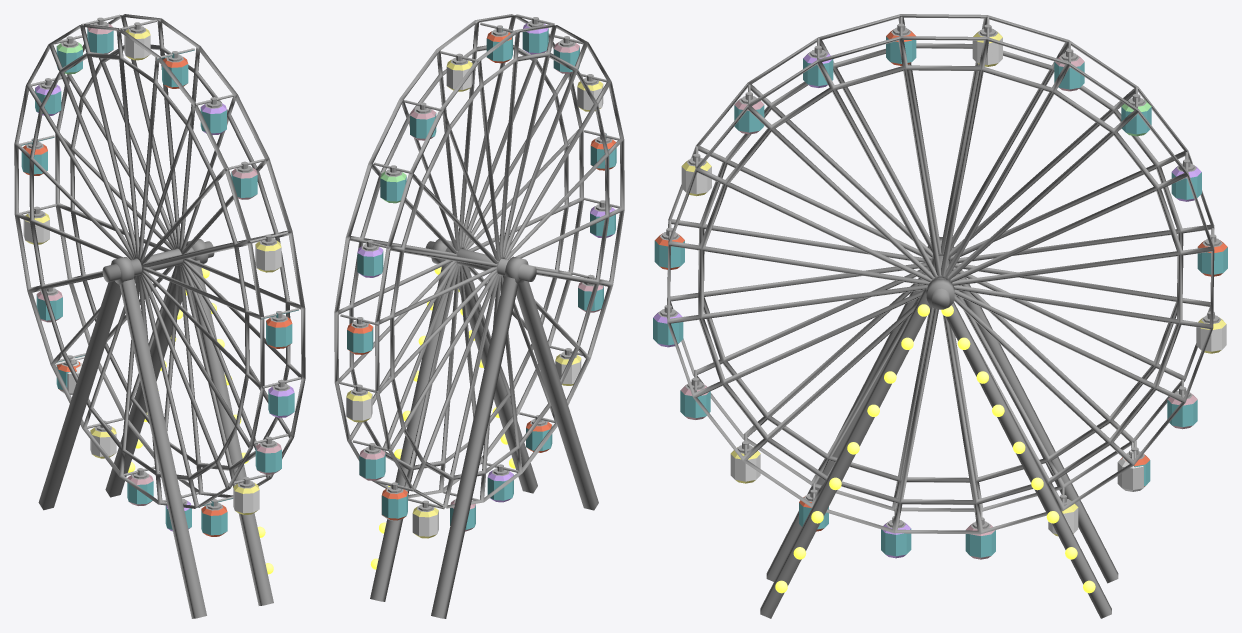
The model's file is rueda.glb.
3 renders of one model, left to right at view 1: azimuth 30°, elevation 25°; view 2: azimuth 150°, elevation 25°; view 3: azimuth 270°, elevation 25°, orthographic. The views are drawn at different scales.
Parts seen in each view (by area): view 1: Circle.001, Cube.003, Cube.002, Cube.001, Cube, Cylinder.019, Cylinder.005, Cylinder.020, Cylinder.001, Cylinder.004, Cylinder.003, Cylinder.021 (+11 smaller); view 2: Circle.001, Cube.002, Cube.003, Cube, Cube.001, Cylinder.011, Cylinder.010, Cylinder.012, Cylinder.013, Cylinder.007, Cylinder.008, Cylinder.014 (+12 smaller); view 3: Circle.001, Cube.001, Cube, Cube.002, Cube.003, Cylinder.012, Cylinder.006, Cylinder.020, Cylinder.010, Cylinder.019, Cylinder.004, Cylinder.013 (+10 smaller).
Boxes of the visible parts, x1,y1,x2,y2 form: Circle.001: (14, 14, 305, 508); Cube.003: (119, 278, 206, 618); Cube.002: (38, 281, 121, 510); Cube.001: (189, 260, 273, 605); Cube: (105, 273, 185, 497); Cylinder.019: (249, 231, 288, 272); Cylinder.005: (262, 377, 300, 417); Cylinder.020: (260, 308, 298, 348); Cylinder.001: (250, 433, 288, 474); Cylinder.004: (228, 474, 266, 514); Cylinder.003: (198, 496, 233, 536); Cylinder.021: (225, 159, 264, 199); Circle.001: (334, 14, 624, 508); Cube.002: (431, 274, 518, 618); Cube.003: (516, 280, 598, 510); Cube: (370, 263, 449, 601); Cube.001: (459, 266, 537, 493); Cylinder.011: (339, 381, 378, 422); Cylinder.010: (352, 440, 391, 480); Cylinder.012: (340, 314, 378, 354); Cylinder.013: (350, 237, 389, 277); Cylinder.007: (408, 498, 444, 538); Cylinder.008: (375, 480, 413, 520); Cylinder.014: (374, 162, 412, 203); Circle.001: (667, 14, 1214, 534); Cube.001: (760, 288, 931, 618); Cube: (945, 302, 1111, 618); Cube.002: (957, 274, 1118, 583); Cube.003: (766, 273, 924, 581); Cylinder.012: (1197, 228, 1227, 276); Cylinder.006: (965, 510, 995, 559); Cylinder.020: (654, 221, 684, 269); Cylinder.010: (1167, 379, 1197, 429); Cylinder.019: (681, 146, 711, 196); Cylinder.004: (730, 433, 760, 483); Cylinder.013: (1171, 152, 1201, 201).
Size of the model in its own units: 0.4819 by 2.29 by 2.08.
